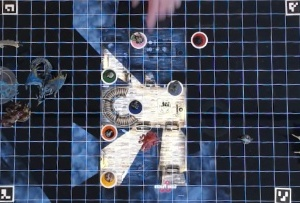blue: (127, 98, 143, 115)
green: (101, 67, 118, 83)
orange: (98, 122, 118, 140)
pink: (129, 29, 148, 48)
red: (189, 28, 210, 49)
violet: (166, 78, 185, 97)
yellow: (98, 169, 118, 186)
